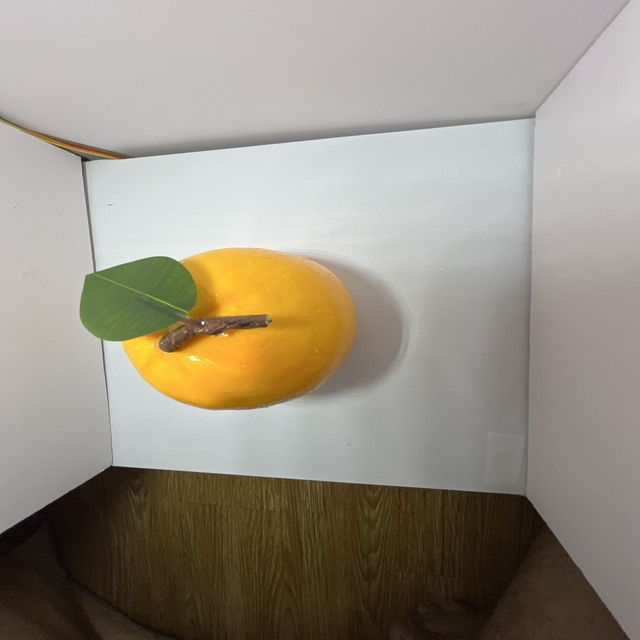Cam vang: (114, 244, 352, 416)
